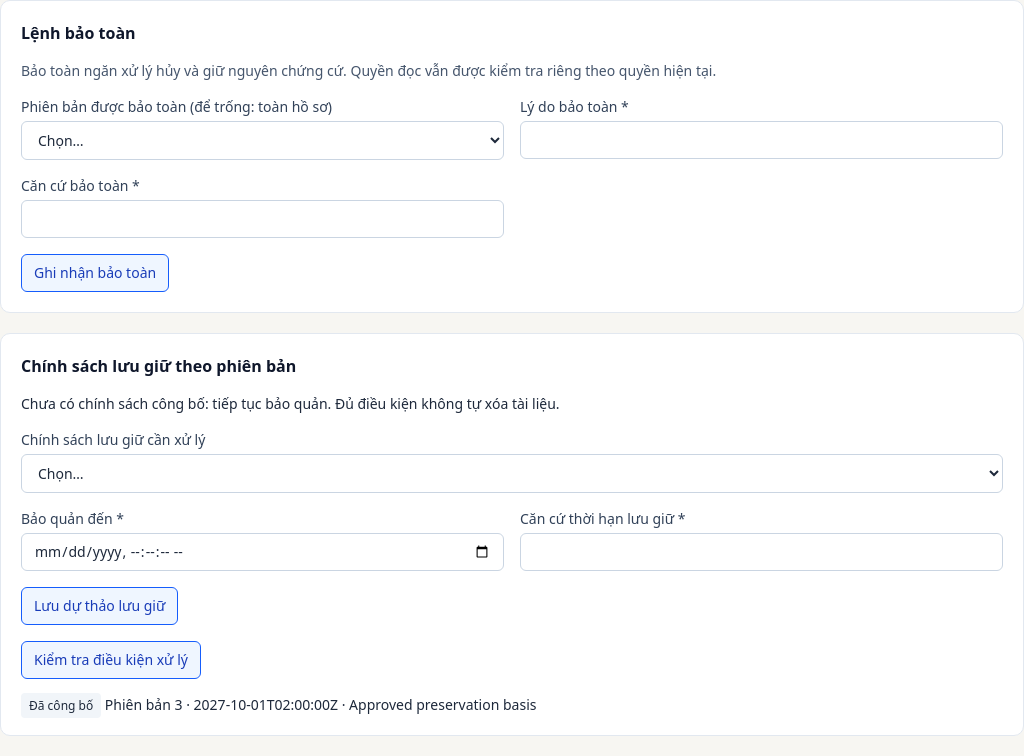
Test: reports retention eligibility true without automatically disposing files
Click the button "Kiểm tra điều kiện xử lý". click: (111, 660)
box: x1=21 y1=641 x2=201 y2=679
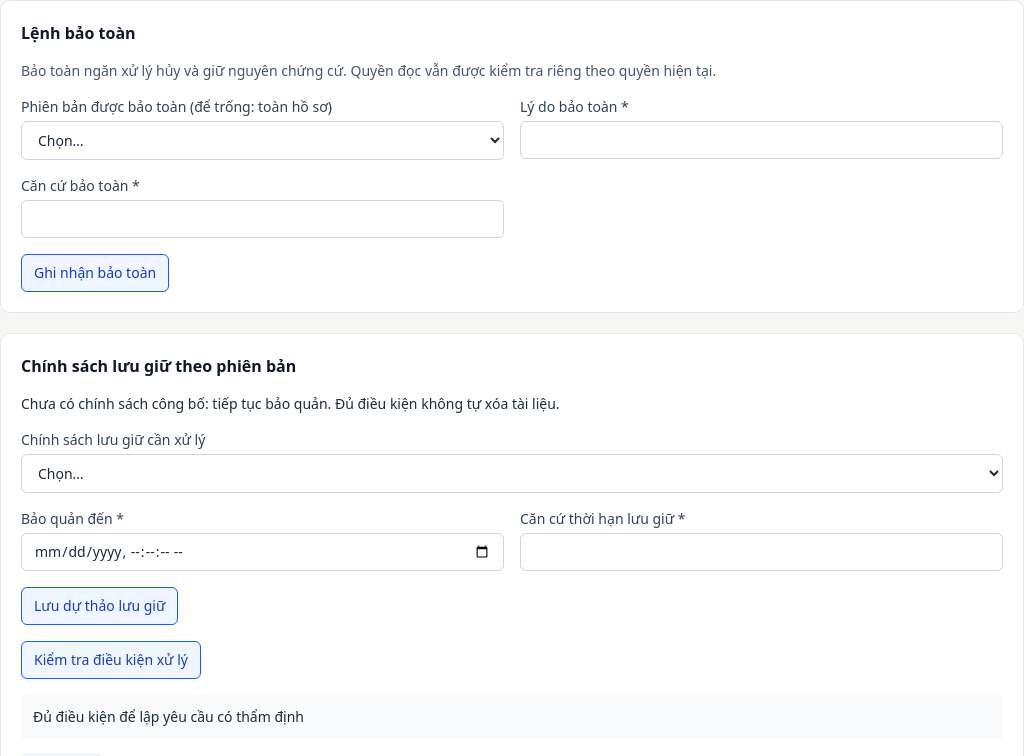
Now the message reads "Đủ điều kiện để lập yêu cầu có thẩm định", box x1=33 y1=707 x2=304 y2=726
